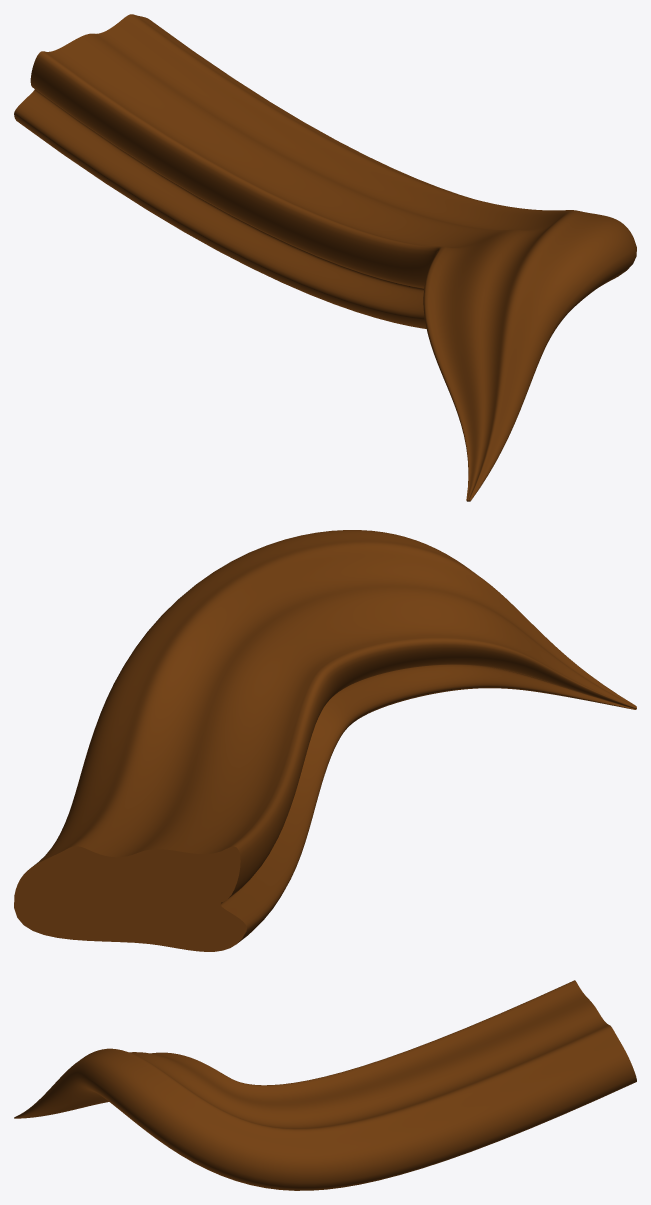
File: Branch_01.fbx
3 renders of one model, top to bottom at view 1: azimuth 30°, elevation 25°; view 2: azimuth 150°, elevation 25°; view 3: azimuth 270°, elevation 25°, orthographic. The views are drawn at different scales.
Visible parts, largest first — view 1: NurbsPath.001; view 2: NurbsPath.001; view 3: NurbsPath.001.
Part boxes in pixels (x1,y1,x2,y2): NurbsPath.001: [14, 14, 636, 501]; NurbsPath.001: [14, 530, 636, 951]; NurbsPath.001: [14, 980, 636, 1190].
Bounding box in the file's own units: 492 × 235 × 1057.
